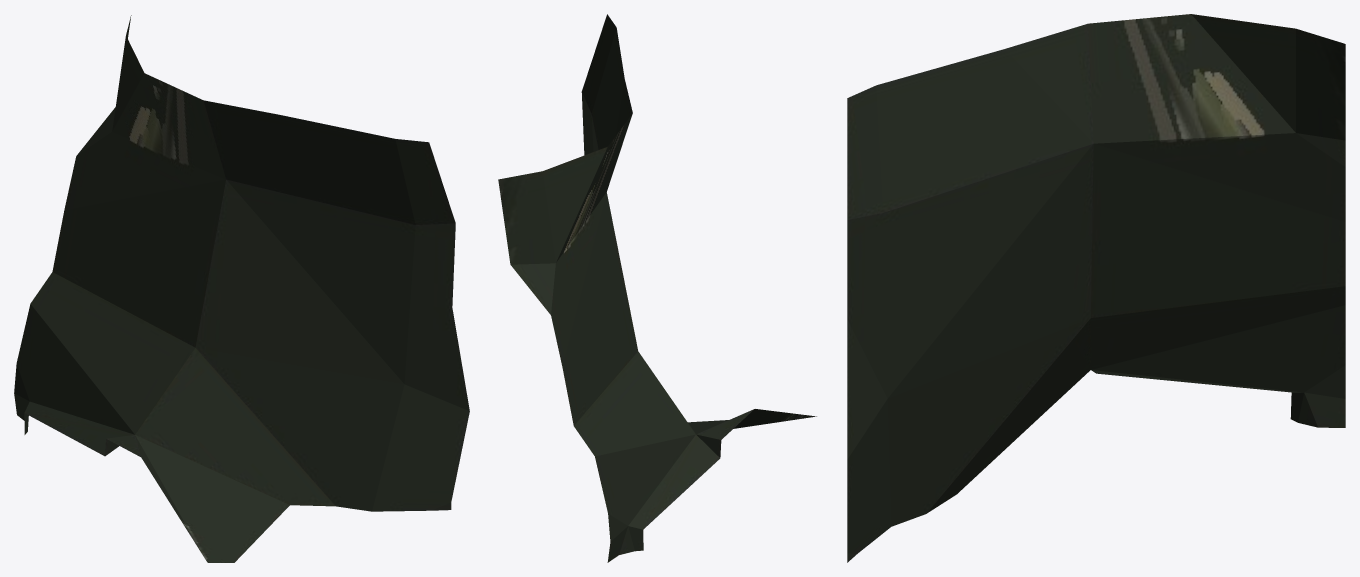
3 renders of one model, left to right at view 1: azimuth 30°, elevation 25°; view 2: azimuth 150°, elevation 25°; view 3: azimuth 270°, elevation 25°, orthographic. The views are drawn at different scales.
Size of the model in its own units: 2.17 by 2.95 by 2.95.
3 materials, 3 textured.
